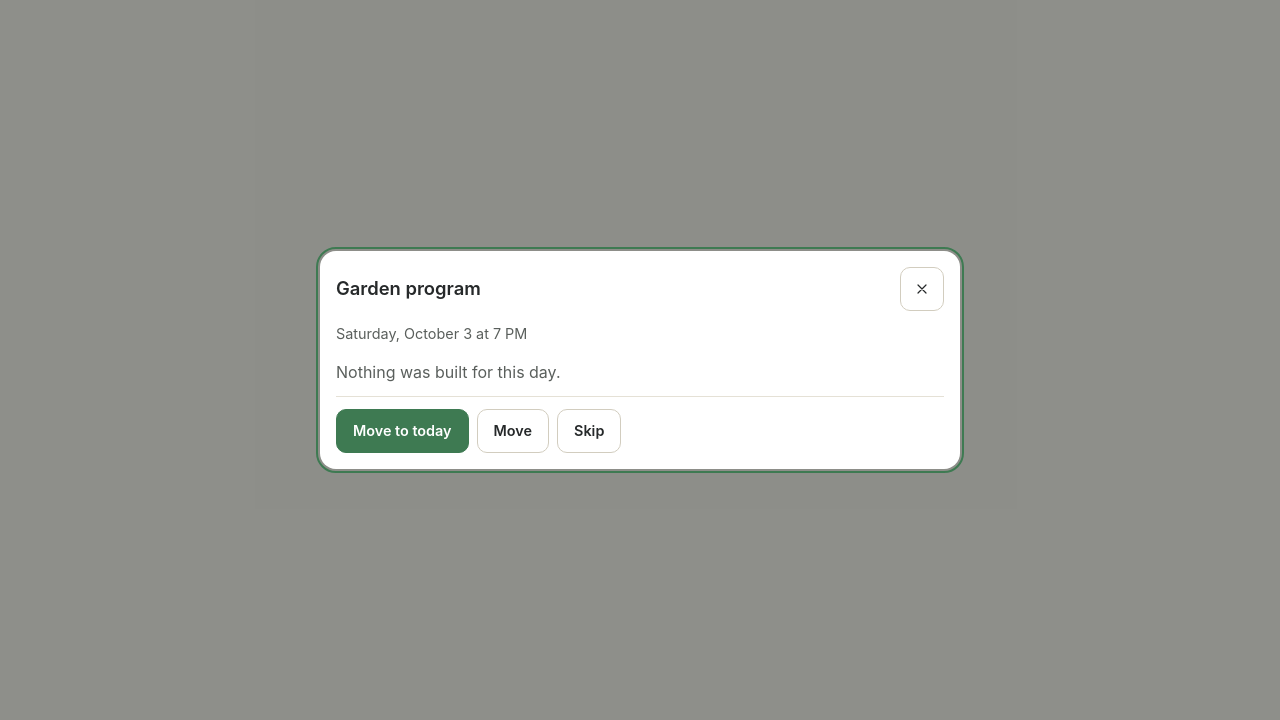
Scenario: a day ahead, a day gone, a started session › a session the watch completed (auto-matched: `completed`, still an outline or built) › a refusal, then a newer press on its way and then through: the old words go, and no stand-in line shows at any point
Click the button "Skip" at point(589, 431), box left=557, top=409, right=621, bottom=453
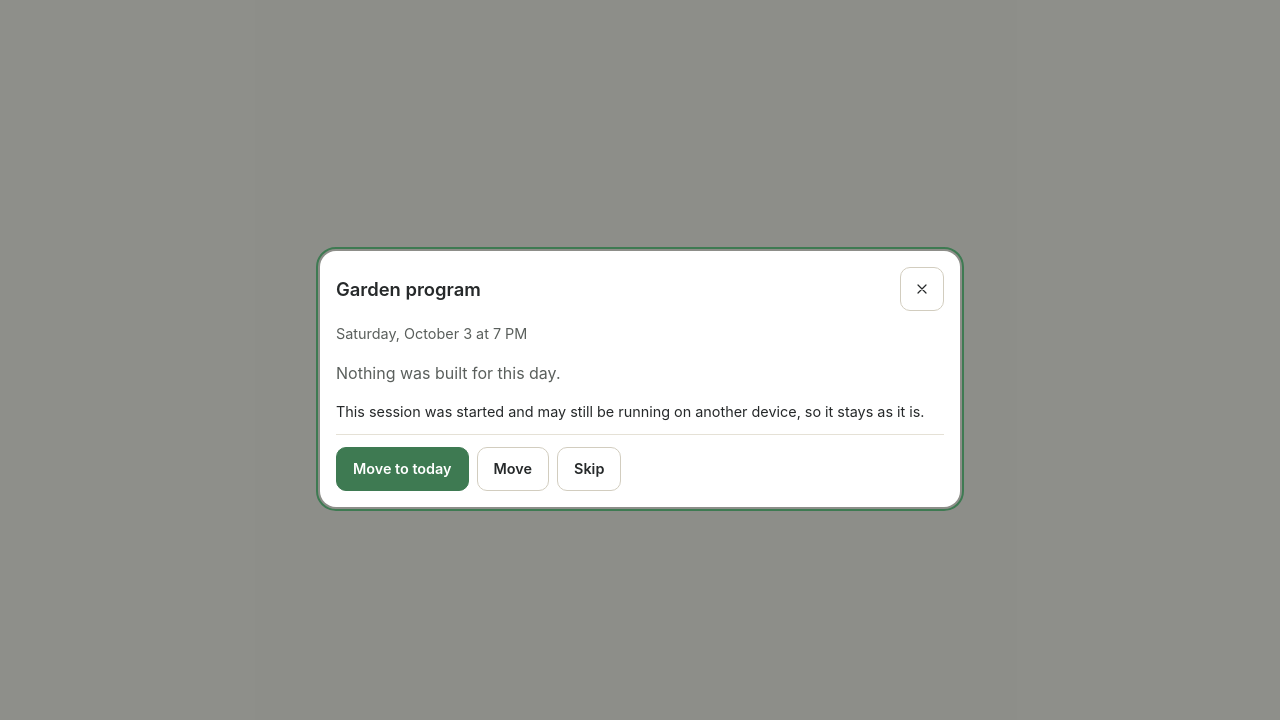
Click the button "Move to today" at point(402, 469), box left=336, top=447, right=469, bottom=491
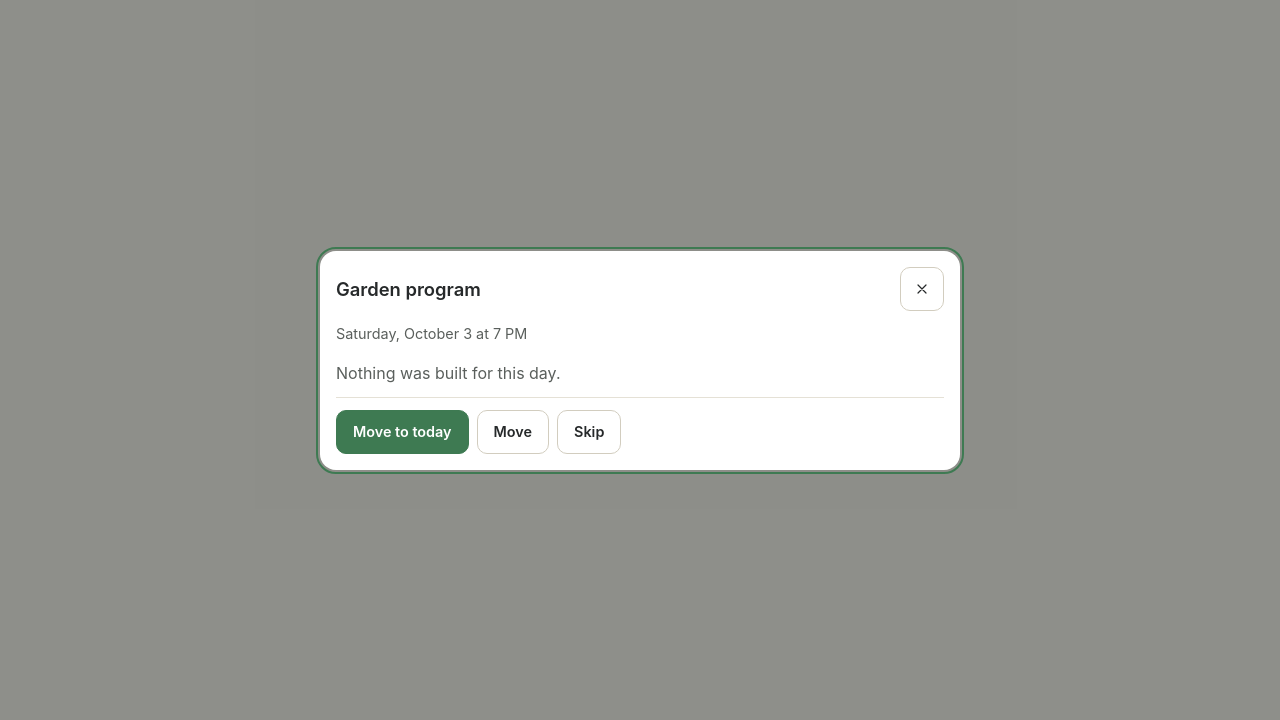
Expected: no messages with class "session-refused" are shown
